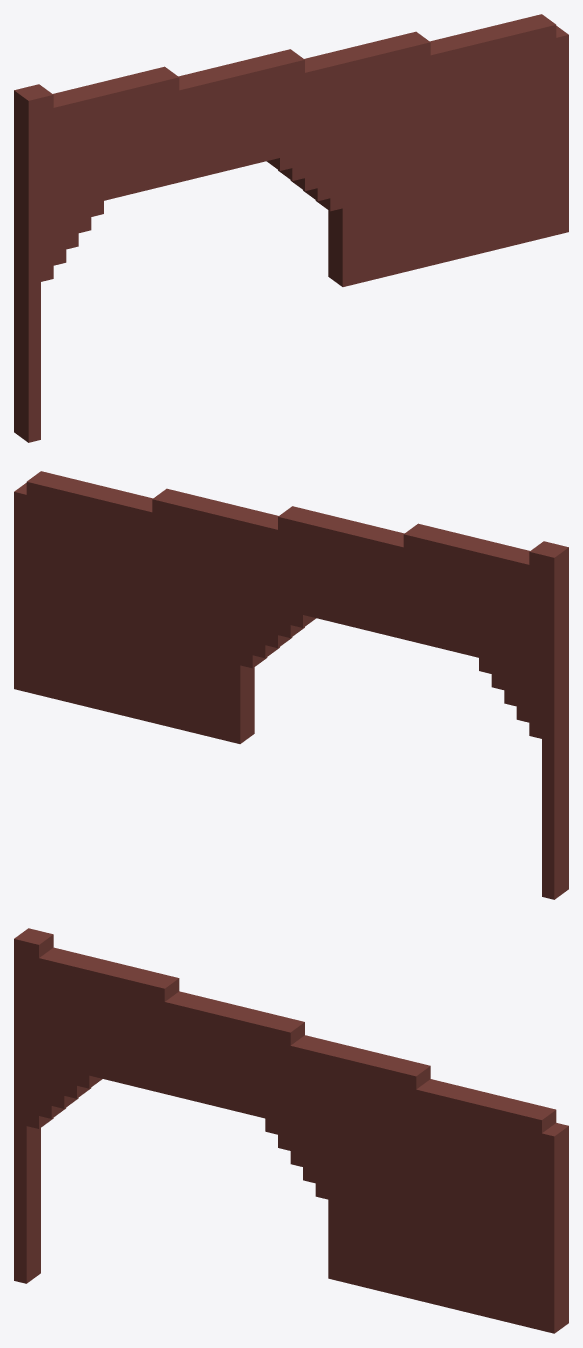
The model's file is estate_front_wing.glb.
3 renders of one model, top to bottom at view 1: azimuth 30°, elevation 25°; view 2: azimuth 150°, elevation 25°; view 3: azimuth 330°, elevation 25°, orthographic.
Parts seen in each view (by area): view 1: body:compound; view 2: body:compound; view 3: body:compound.
Boxes of the visible parts, x1=… form: body:compound: x1=14, y1=14, x2=568, y2=442; body:compound: x1=14, y1=471, x2=568, y2=899; body:compound: x1=14, y1=928, x2=568, y2=1333.
Size of the model in its own units: 1.34 by 0.8125 by 0.0625.
